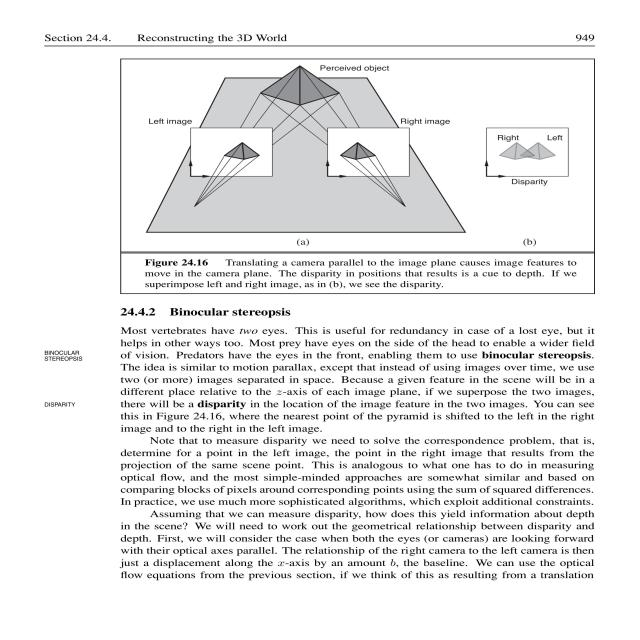diagram: (104, 58, 615, 306)
